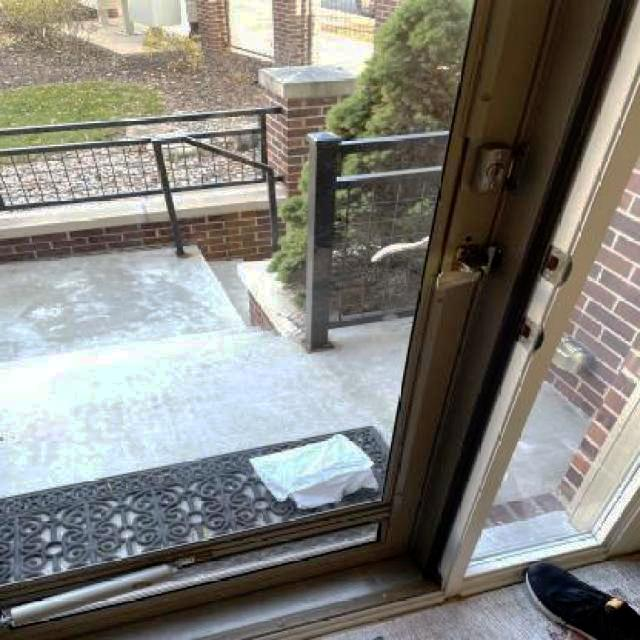Box: (249, 434, 377, 508)
